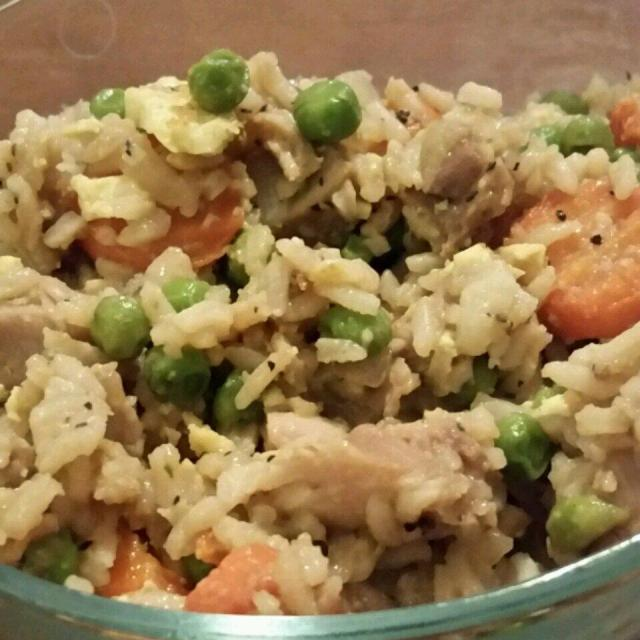Nasi Goreng: (2, 47, 638, 614)
